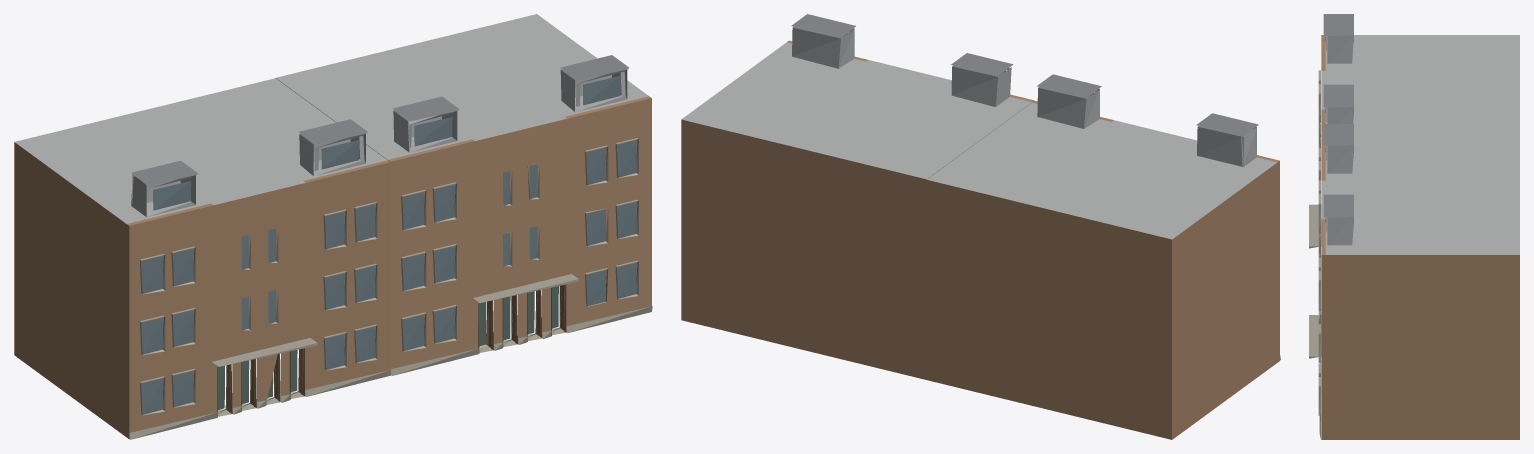
The model's file is chunk-face-callenburg-2-32-r1.lod2.glb.
The picture shows the model from 3 angles, left to right: view 1: azimuth 30°, elevation 25°; view 2: azimuth 150°, elevation 25°; view 3: azimuth 270°, elevation 25°; orthographic projection. The views are drawn at different scales.
Parts seen in each view (by area): view 1: lod2; view 2: lod2; view 3: lod2.
Part boxes in pixels (left/top/right/bottom): lod2: left=14, top=14, right=652, bottom=439; lod2: left=681, top=14, right=1280, bottom=439; lod2: left=1309, top=14, right=1519, bottom=439.
Size of the model in its own units: 25.62 by 11.62 by 10.35.
